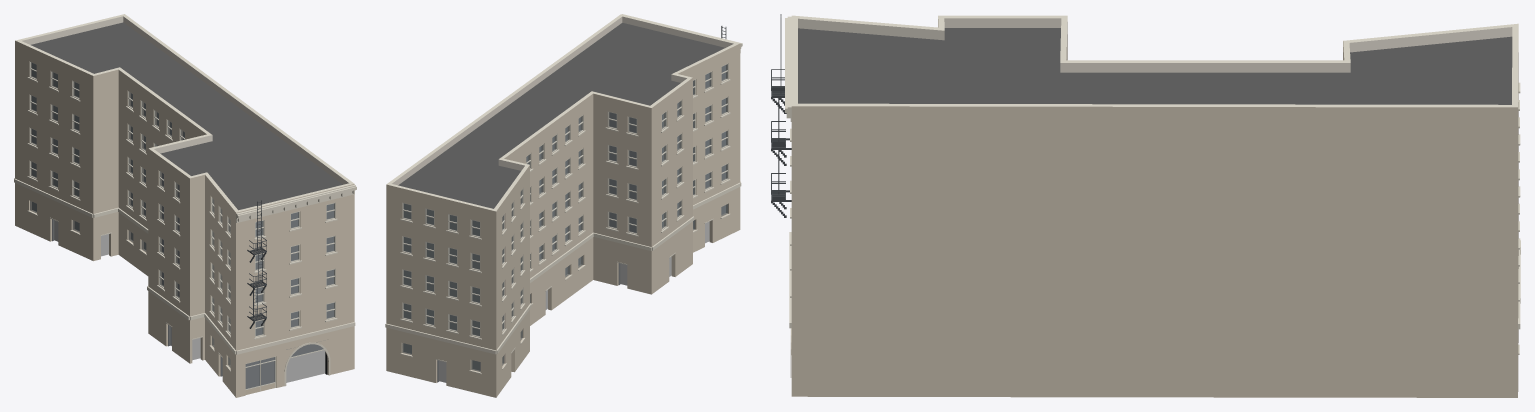
File: exterior.glb
3 renders of one model, left to right at view 1: azimuth 30°, elevation 25°; view 2: azimuth 150°, elevation 25°; view 3: azimuth 270°, elevation 25°, orthographic. The views are drawn at different scales.
Visible parts, largest first — view 1: shell, roof, glazing, shadow-proxy, trim, frames, fire-escape, storefront, hyC-arches-7; view 2: shell, roof, glazing, frames, shadow-proxy, trim; view 3: shell, roof, trim, fire-escape.
Part boxes in pixels (x1,y1,x2,y2): shell: (15, 14, 354, 397); roof: (31, 22, 342, 210); glazing: (30, 62, 334, 388); shadow-proxy: (32, 63, 333, 388); trim: (14, 77, 356, 371); frames: (29, 61, 335, 337); fire-escape: (247, 200, 266, 328); storefront: (49, 217, 327, 394); hyC-arches-7: (284, 339, 330, 386); shell: (386, 14, 740, 397); roof: (398, 22, 724, 208); glazing: (402, 64, 727, 371); frames: (402, 63, 728, 337); shadow-proxy: (404, 65, 725, 382); trim: (385, 14, 742, 373); shell: (791, 15, 1518, 397); roof: (798, 28, 1512, 104); trim: (785, 16, 1520, 354); fire-escape: (771, 14, 791, 217).
Bounding box in the file's own units: 12 × 18.39 × 40.91.
